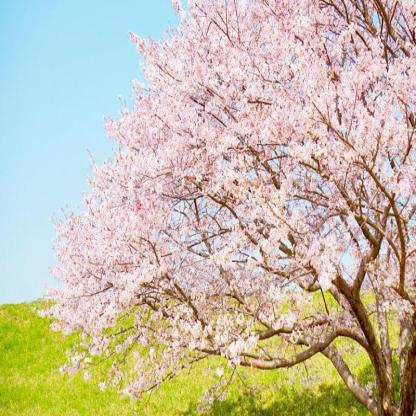Someiyoshino: (41, 3, 416, 409)
